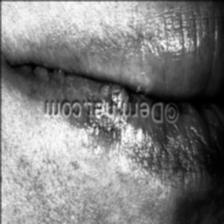Toxin: (96, 76, 134, 100), (94, 119, 127, 135)
